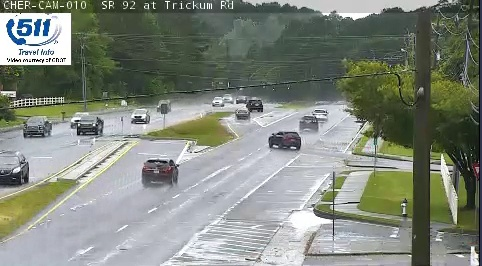car: (142, 159, 178, 184), (299, 115, 317, 131), (310, 109, 327, 122)
